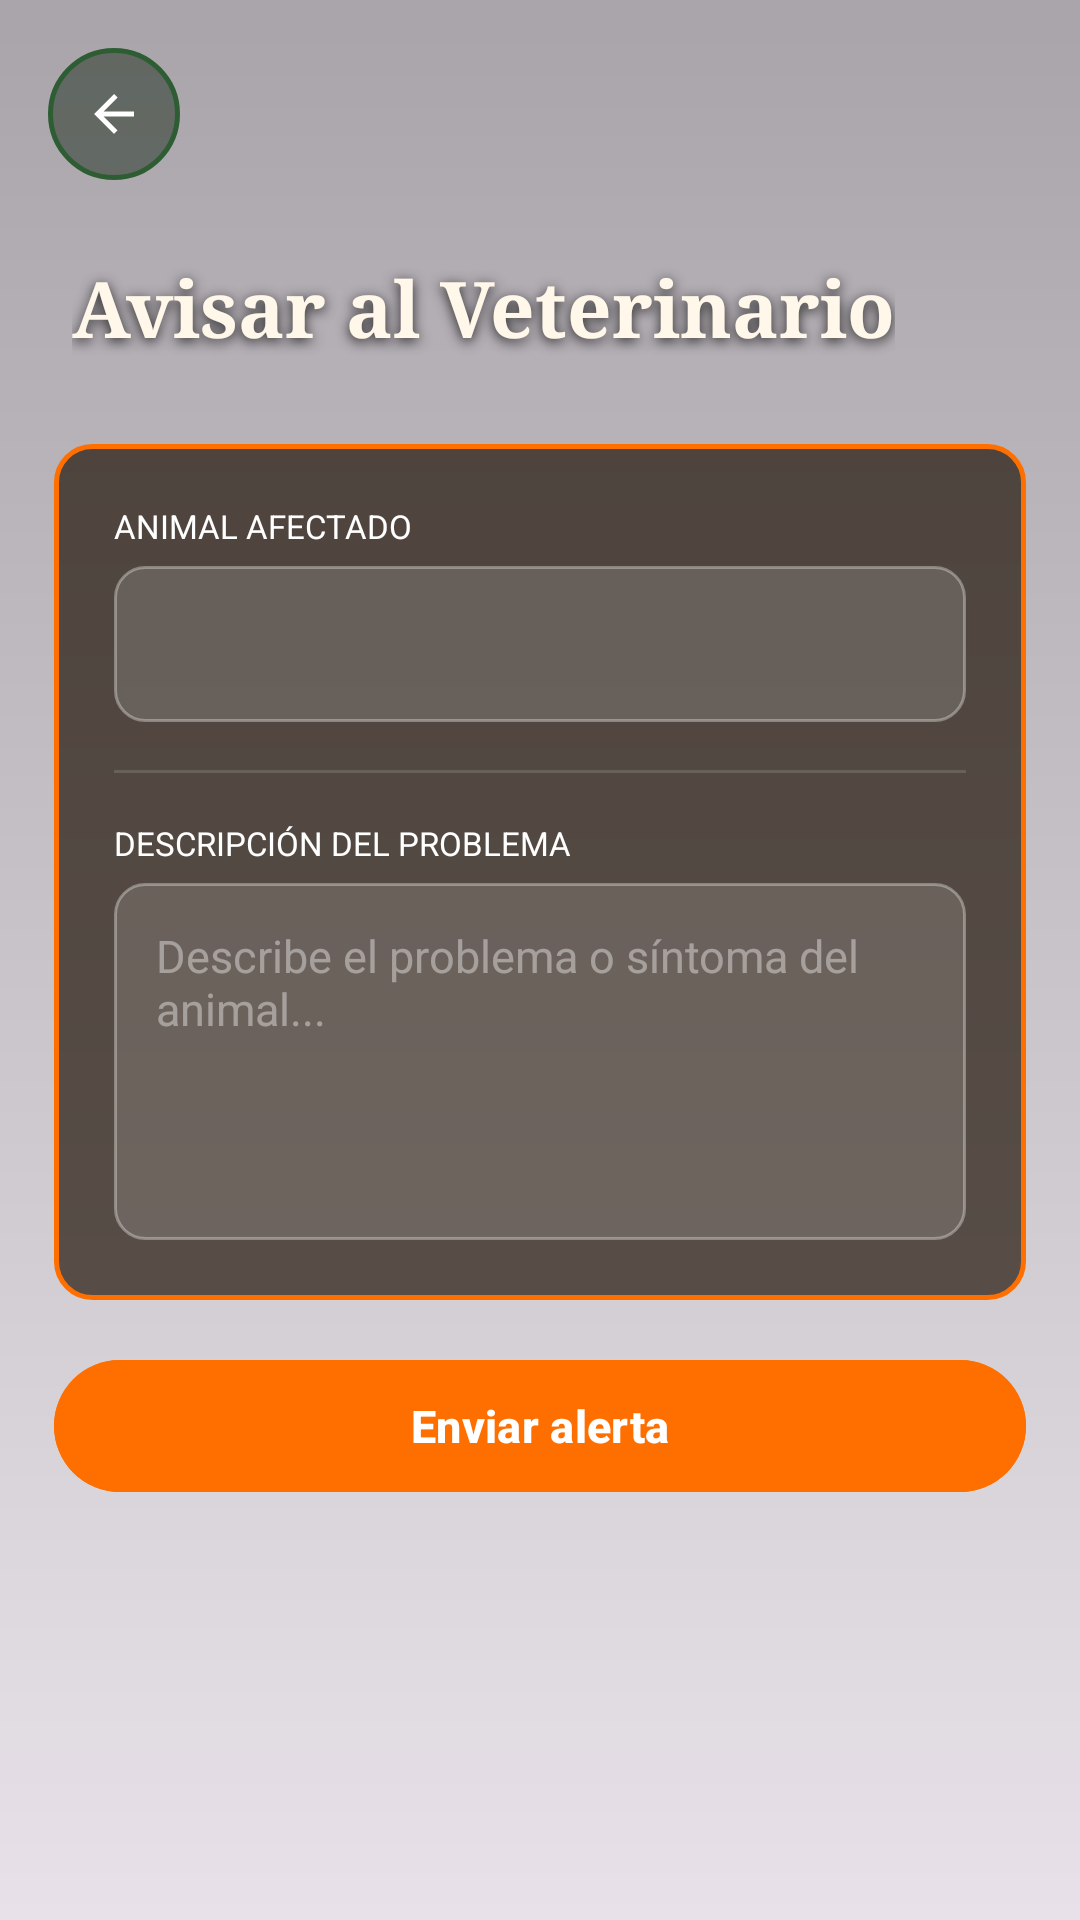

Named icons in this screenshot (1080x1920) and their centers, [x,y]:
arrow back: [114,114]
